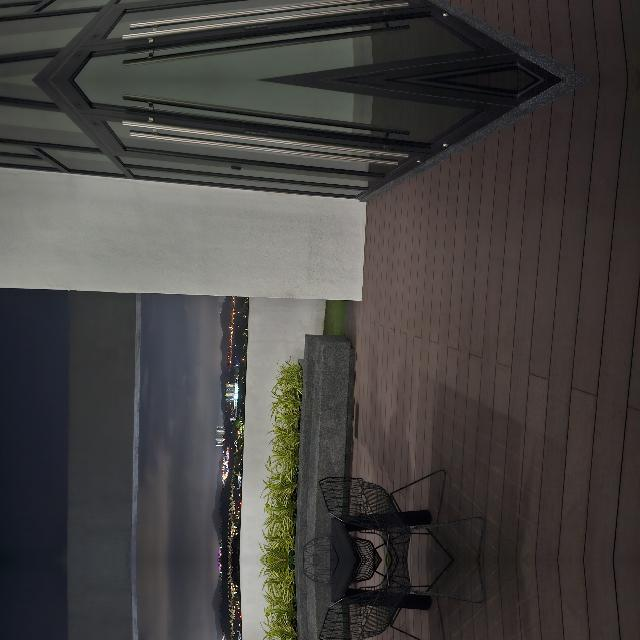obstacle: (0, 388, 92, 560), (78, 346, 228, 436), (0, 560, 92, 640)
